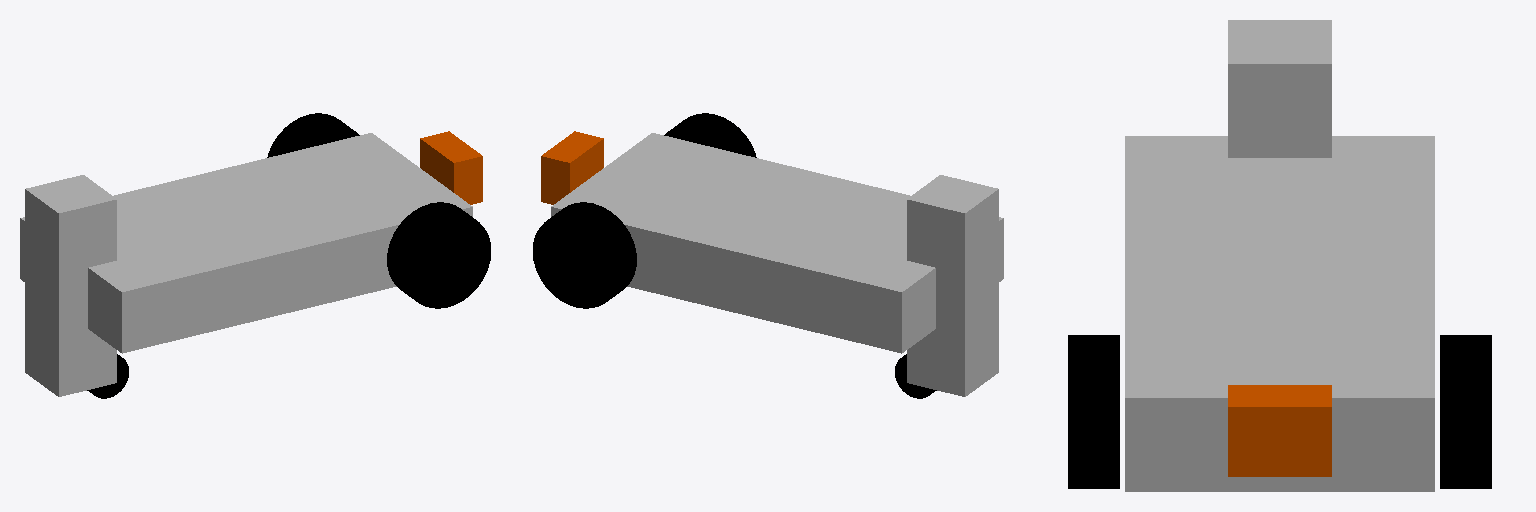
URDF robot description (tortoisebot):
<?xml version="1.0"?>
<robot name="tortoisebot">

<gazebo reference="right_wheel">
    <material>Gazebo/Black</material>
  </gazebo>

  <gazebo reference="left_wheel">
    <material>Gazebo/Green</material>
  </gazebo>

  <link name="base_link">
    <visual>
      <geometry>
        <box size="0.6 0.3 0.1"/>
      </geometry>
      <material name="silver">
        <color rgba="0.75 0.75 0.75 1"/>
      </material>
    </visual>
    <collision>
      <geometry>
        <box size="0.6 0.3 0.1"/>
      </geometry>
    </collision>
    <inertial>
      <mass value="1.0"/>
      <inertia ixx="0.015" iyy="0.0375" izz="0.0375" ixy="0" ixz="0" iyz="0"/>
    </inertial>
  </link>

  <link name="front_caster">
    <visual>
      <geometry>
        <box size="0.1 0.1 0.3"/>
      </geometry>
      <material name="silver"/>
    </visual>
    <collision>
      <geometry>
        <box size="0.1 0.1 0.3"/>
      </geometry>
    </collision>
    <inertial>
      <mass value="0.1"/>
      <inertia ixx="0.00083" iyy="0.00083" izz="0.000167" ixy="0" ixz="0" iyz="0"/>
    </inertial>
  </link>

  <joint name="front_caster_joint" type="continuous">
    <axis xyz="0 0 1"/>
    <parent link="base_link"/>
    <child link="front_caster"/>
    <origin rpy="0 0 0" xyz="-0.3 0 0"/>
  </joint>

  <link name="front_wheel">
    <visual>
      <geometry>
        <cylinder length="0.05" radius="0.035"/>
      </geometry>
      <material name="black"/>
    </visual>
    <collision>
      <geometry>
        <cylinder length="0.05" radius="0.035"/>
      </geometry>
    </collision>
    <inertial>
      <mass value="0.1"/>
      <inertia ixx="5.1458e-5" iyy="5.1458e-5" izz="6.125e-5" ixy="0" ixz="0" iyz="0"/>
    </inertial>
  </link>

  <joint name="front_wheel_joint" type="continuous">
    <axis xyz="0 0 1"/>
    <parent link="front_caster"/>
    <child link="front_wheel"/>
    <origin rpy="-1.5708 0 0" xyz="0.05 0 -.15"/>
  </joint>

  <link name="right_wheel">
    <visual>
      <geometry>
        <cylinder length="0.05" radius="0.075"/>
      </geometry>
      <material name="black">
        <color rgba="0 0 0 1"/>
      </material>
    </visual>
    <collision>
      <geometry>
        <cylinder length="0.05" radius="0.075"/>
      </geometry>
    </collision>
    <inertial>
      <mass value="0.1"/>
      <inertia ixx="5.1458e-5" iyy="5.1458e-5" izz="6.125e-5" ixy="0" ixz="0" iyz="0"/>
    </inertial>
  </link>

  <joint name="right_wheel_joint" type="continuous">
    <axis xyz="0 0 1"/>
    <parent link="base_link"/>
    <child link="right_wheel"/>
    <origin rpy="-1.5708 0 0" xyz="0.225 -0.18 0"/>
  </joint>

  <link name="left_wheel">
    <visual>
      <geometry>
        <cylinder length="0.05" radius="0.075"/>
      </geometry>
      <material name="black"/>
    </visual>
    <collision>
      <geometry>
        <cylinder length="0.05" radius="0.075"/>
      </geometry>
    </collision>
    <inertial>
      <mass value="0.1"/>
      <inertia ixx="5.1458e-5" iyy="5.1458e-5" izz="6.125e-5" ixy="0" ixz="0" iyz="0"/>
    </inertial>
  </link>

  <joint name="left_wheel_joint" type="continuous">
    <axis xyz="0 0 1"/>
    <parent link="base_link"/>
    <child link="left_wheel"/>
    <origin rpy="1.5708 0 0" xyz="0.225 0.18 0"/>
  </joint>

  <link name="hokuyo_link">
    <collision>
      <origin xyz="0 0 0" rpy="0 0 0"/>
      <geometry>
        <box size="0.05 0.1 0.075"/>
      </geometry>
    </collision>
    <visual>
      <origin xyz="0 0 0" rpy="0 0 0"/>
      <geometry>
        <box size="0.05 0.1 0.075"/>
      </geometry>
    </visual>
    <inertial>
      <mass value="1e-5" />
      <origin xyz="0 0 0" rpy="0 0 0"/>
      <inertia ixx="1e-6" ixy="0" ixz="0" iyy="1e-6" iyz="0" izz="1e-6" />
    </inertial>
  </link>

  <joint name="hokuyo_joint" type="fixed">
    <axis xyz="0 1 0" />
    <origin xyz="0.35 0 0.0375" rpy="0 0 0"/>
    <parent link="base_link"/>
    <child link="hokuyo_link"/>
  </joint>

  <gazebo>
    <plugin name="differential_drive_controller" filename="libgazebo_ros_diff_drive.so">
      <leftJoint>left_wheel_joint</leftJoint>
      <rightJoint>right_wheel_joint</rightJoint>
      <robotBaseFrame>base_link</robotBaseFrame>
      <wheelSeparation>0.25</wheelSeparation>
      <wheelDiameter>0.07</wheelDiameter>
      <publishWheelJointState>true</publishWheelJointState>
    </plugin>
  </gazebo>

  <gazebo>
    <plugin name="joint_state_publisher" filename="libgazebo_ros_joint_state_publisher.so">
      <jointName>front_caster_joint, front_wheel_joint</jointName>
    </plugin>
  </gazebo>

  <gazebo reference="hokuyo_link">
    <sensor type="ray" name="hokuyo">
      <pose>0 0 0 0 0 0</pose>
      <visualize>false</visualize>
      <update_rate>40</update_rate>
      <ray>
        <scan>
          <horizontal>
            <samples>720</samples>
            <resolution>1</resolution>
            <min_angle>-1.570796</min_angle>
            <max_angle>1.570796</max_angle>
          </horizontal>
        </scan>
        <range>
          <min>0.10</min>
          <max>30.0</max>
          <resolution>0.01</resolution>
        </range>
      </ray>
      <plugin name="gpu_laser" filename="libgazebo_ros_laser.so">
        <topicName>/scan</topicName>
        <frameName>hokuyo_link</frameName>
      </plugin>
    </sensor>
  </gazebo>
</robot>

--- Facts derived from the render (not from the file) ---
3 views of the same robot in one strip: view 1: azimuth 30°, elevation 25°; view 2: azimuth 150°, elevation 25°; view 3: azimuth 270°, elevation 25° (orthographic).
Robot: tortoisebot — 6 links, 5 joints (4 continuous, 1 fixed); root link base_link; default pose: every joint at zero.
Links seen in each view (by area): view 1: base_link, front_caster, right_wheel, hokuyo_link, left_wheel, front_wheel; view 2: base_link, front_caster, left_wheel, hokuyo_link, right_wheel, front_wheel; view 3: base_link, front_caster, hokuyo_link, right_wheel, left_wheel.
Link boxes in pixels (x1,y1,x2,y2): base_link: [20, 133, 472, 353]; front_caster: [25, 175, 116, 396]; right_wheel: [387, 202, 490, 308]; hokuyo_link: [420, 131, 482, 204]; left_wheel: [267, 113, 359, 157]; front_wheel: [87, 354, 128, 398]; base_link: [551, 133, 1003, 353]; front_caster: [907, 175, 998, 396]; left_wheel: [533, 202, 636, 308]; hokuyo_link: [541, 131, 603, 204]; right_wheel: [664, 113, 756, 157]; front_wheel: [895, 354, 936, 398]; base_link: [1125, 136, 1434, 491]; front_caster: [1228, 20, 1331, 157]; hokuyo_link: [1228, 385, 1331, 476]; right_wheel: [1068, 335, 1119, 488]; left_wheel: [1440, 335, 1491, 488].
Bounding box of the posed robot: 0.725 × 0.41 × 0.335 m (x, y, z).
Geometry: primitives only (box / cylinder / sphere), no mesh files.
